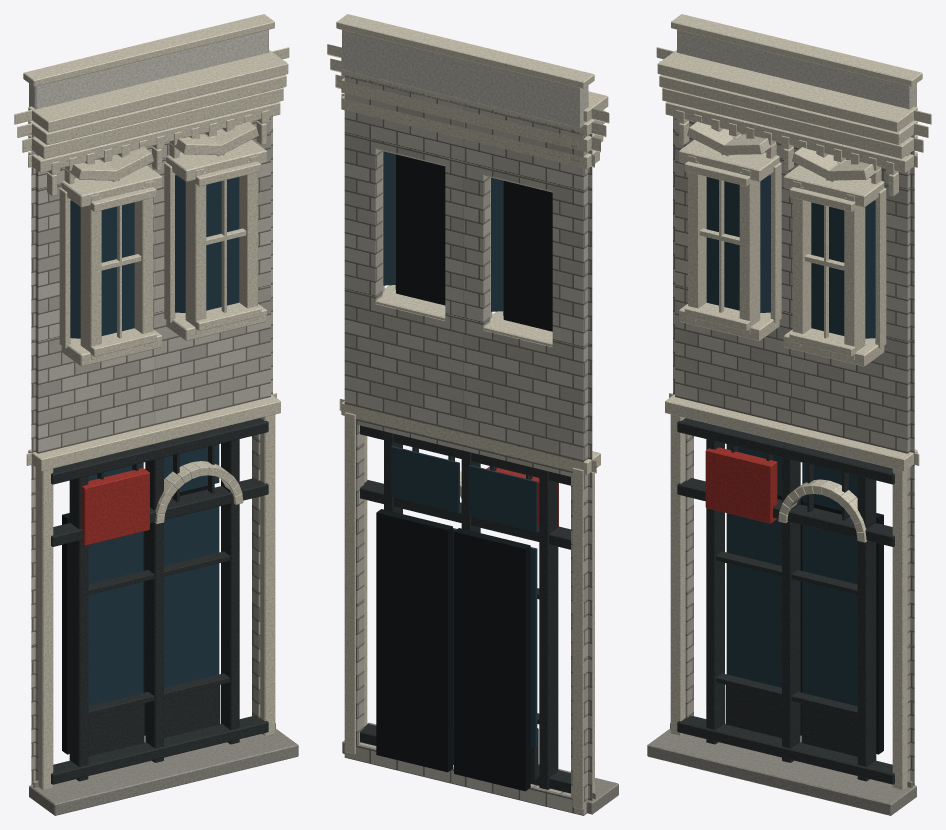
File: BUSS6_lod1.glb
3 renders of one model, left to right at view 1: azimuth 30°, elevation 25°; view 2: azimuth 150°, elevation 25°; view 3: azimuth 330°, elevation 25°, orthographic. The views are drawn at different scales.
Visible parts, largest first — view 1: BUSS6_FRONT_LOD1; view 2: BUSS6_FRONT_LOD1; view 3: BUSS6_FRONT_LOD1.
Boxes of the visible parts, left/top/right/bottom form: BUSS6_FRONT_LOD1: left=14, top=14, right=298, bottom=815; BUSS6_FRONT_LOD1: left=327, top=14, right=618, bottom=815; BUSS6_FRONT_LOD1: left=647, top=14, right=931, bottom=815.
Size of the model in its own units: 3.78 by 9.44 by 1.02.
Materials: 9 (7 with a texture image).
